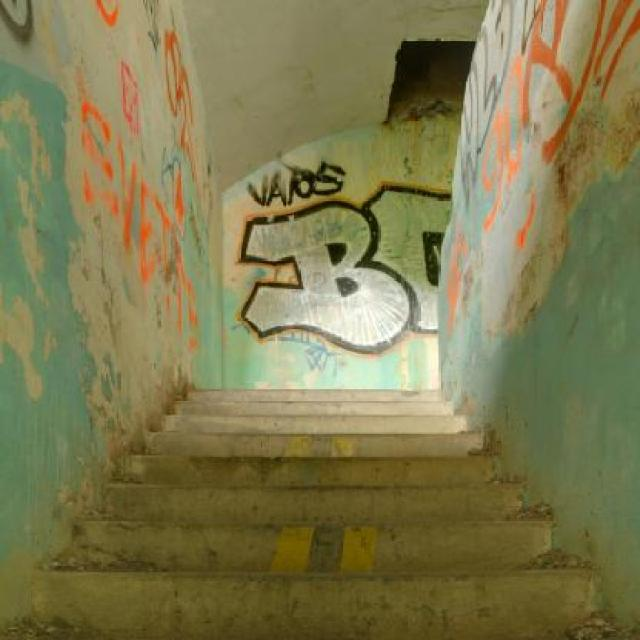stair: (1, 384, 640, 640)
